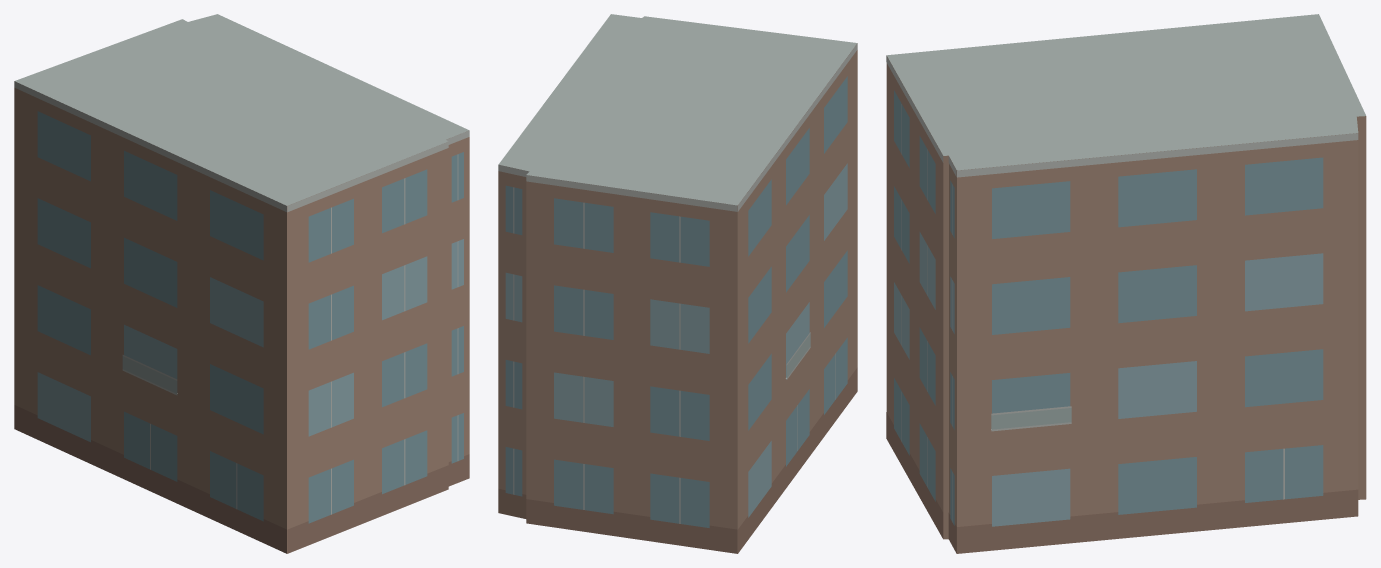
The model's file is survey-upis-32627972.glb.
The picture shows the model from 3 angles, left to right: view 1: azimuth 30°, elevation 25°; view 2: azimuth 150°, elevation 25°; view 3: azimuth 270°, elevation 25°; orthographic projection. The views are drawn at different scales.
Visible parts, largest first — view 1: survey-upis-32627972.tmp; view 2: survey-upis-32627972.tmp; view 3: survey-upis-32627972.tmp.
Boxes of the visible parts, x1,y1,x2,y2 form: survey-upis-32627972.tmp: [14, 14, 469, 553]; survey-upis-32627972.tmp: [498, 14, 857, 553]; survey-upis-32627972.tmp: [886, 14, 1366, 553].
Size of the model in its own units: 11.56 by 13.2 by 14.98.
